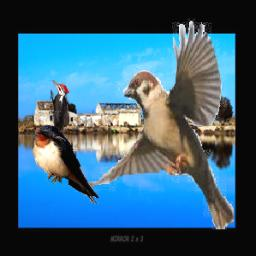Sparrow: (74, 19, 235, 230)
Swallow: (32, 124, 99, 204)
Woodpecker: (49, 81, 69, 137)
